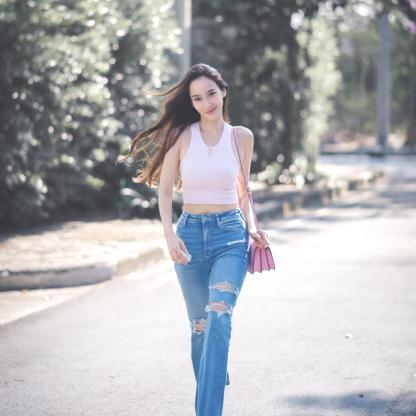jacket: (178, 124, 244, 208)
